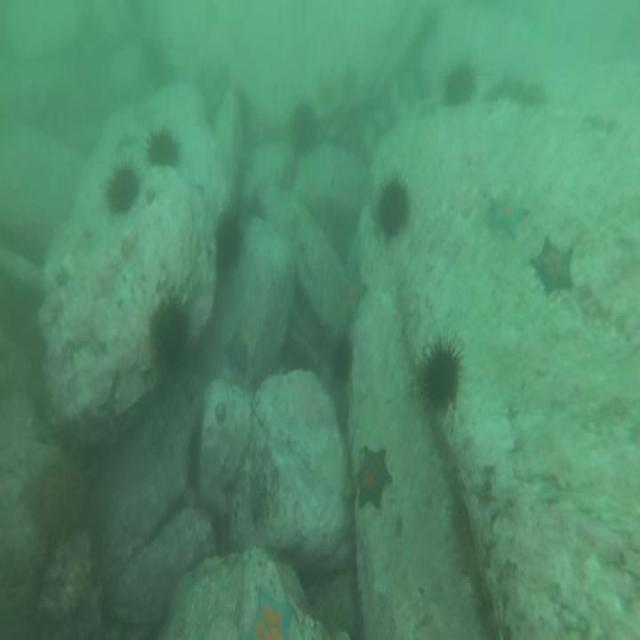echinus: (412, 334, 463, 416), (148, 294, 194, 374), (374, 167, 411, 245), (285, 98, 322, 163), (210, 207, 243, 278), (103, 158, 142, 218), (144, 125, 183, 175), (441, 63, 475, 114), (332, 332, 354, 387)
holothurian: (490, 68, 548, 111)
starfish: (240, 581, 297, 640), (529, 230, 578, 298), (350, 443, 394, 515), (484, 188, 529, 239), (340, 260, 370, 326), (222, 327, 252, 378)
